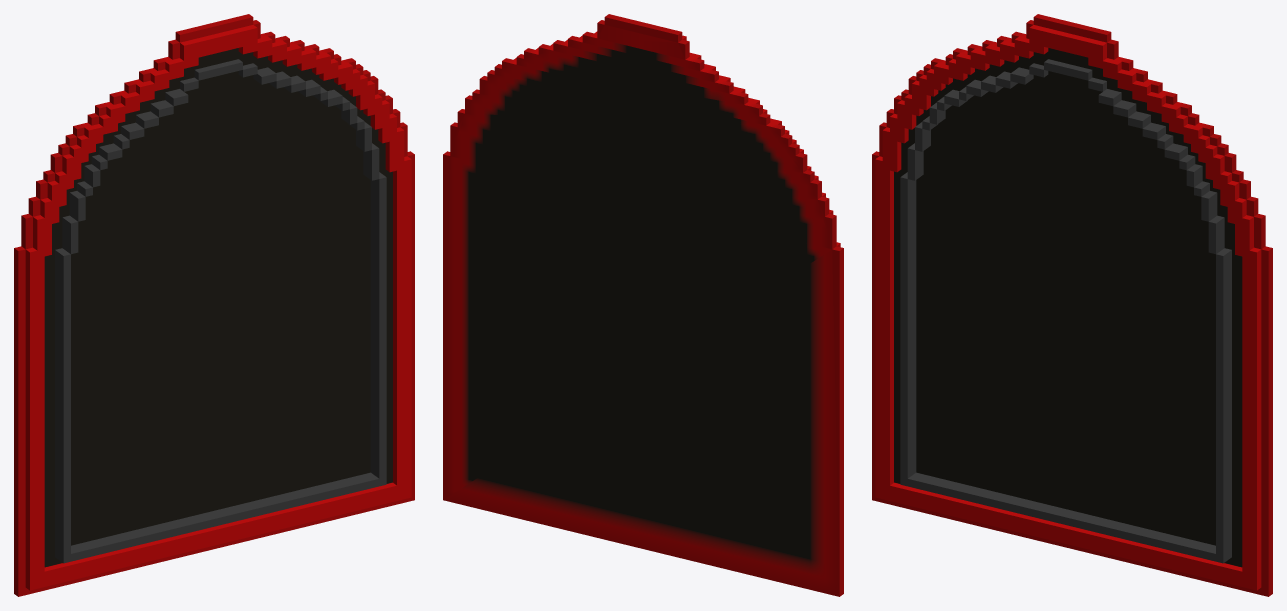
Rendered from Enemy Frame.fbx.
The picture shows the model from 3 angles, left to right: view 1: azimuth 30°, elevation 25°; view 2: azimuth 150°, elevation 25°; view 3: azimuth 330°, elevation 25°; orthographic projection.
Visible parts, largest first — view 1: Enemy_Frame.Merged; view 2: Enemy_Frame.Merged; view 3: Enemy_Frame.Merged.
Part boxes in pixels (x1=…): Enemy_Frame.Merged: x1=14, y1=14, x2=414, y2=596; Enemy_Frame.Merged: x1=443, y1=14, x2=843, y2=596; Enemy_Frame.Merged: x1=872, y1=14, x2=1272, y2=596.
Bounding box in the file's own units: 10800 × 13600 × 600.
